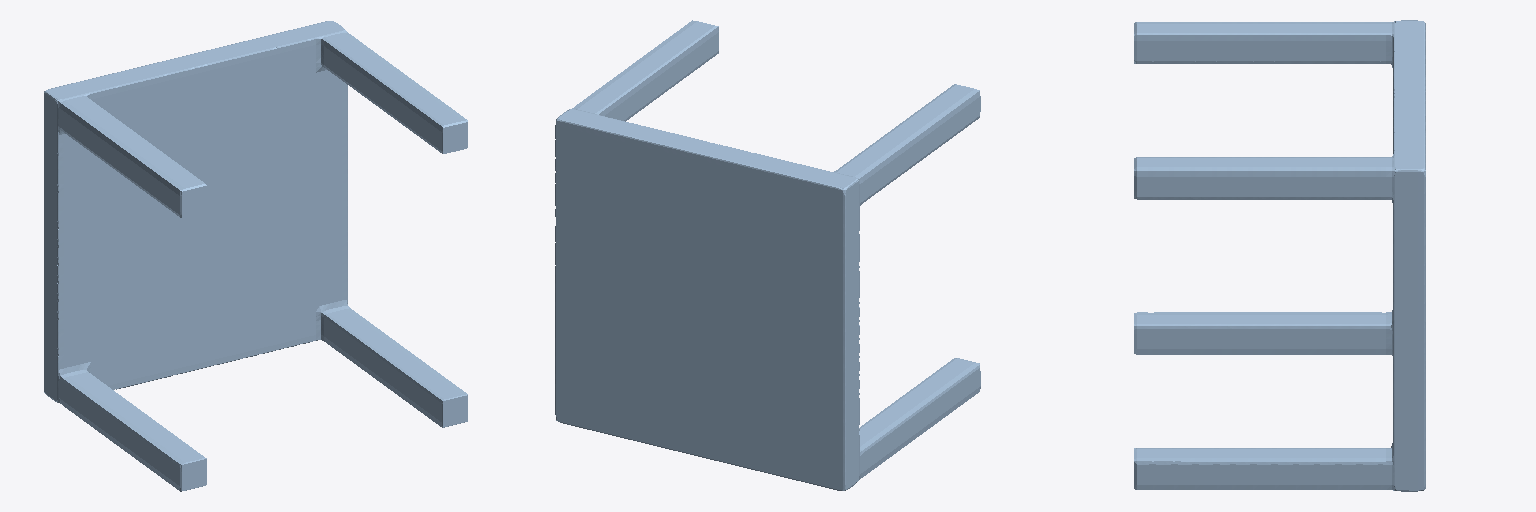
robot.urdf — largetable.urdf:
<?xml version="1.0" ?>
<robot name="largetable.urdf">
  <dynamics damping="0.5" friction="0.9"/>
  <link name="baseLink">
    <contact>
      <lateral_friction value="0.9"/>
      <rolling_friction value="0.5"/>
      <stiffness value="30000"/>
      <damping value="1000"/>
    </contact>
    <visual>
      <origin rpy="0 0 0" xyz="0 0 0"/>
      <geometry>
        <mesh filename="objects/largetable/largetable.obj" scale="1.0 1.0 1.0"/>
      </geometry>
       <material name="mat">
        <color rgba="0.7 0.8 0.9 1"/>
      </material>
    </visual>
    <collision>
      <origin rpy="0 0 0" xyz="0 0 0"/>
      <geometry>
	 	<mesh filename="objects/largetable/largetable.obj" scale="1.0 1.0 1.0"/>
      </geometry>
    </collision>
  </link>
</robot>

--- Facts derived from the render (not from the file) ---
Views: 3 orthographic renders of the robot side by side, from view 1: azimuth 30°, elevation 25°; view 2: azimuth 150°, elevation 25°; view 3: azimuth 270°, elevation 25°.
Robot: largetable.urdf — 1 links, 0 joints (none); root link baseLink; default pose: all joints at 0.
Links seen in each view (by area): view 1: baseLink; view 2: baseLink; view 3: baseLink.
Link boxes in pixels (x1,y1,x2,y2): baseLink: (44, 21, 467, 491); baseLink: (555, 20, 980, 490); baseLink: (1134, 20, 1425, 491).
Size in the robot's own frame: 0.5612 by 0.4602 by 0.5612 metres.
1 mesh visuals loaded from 1 distinct referenced files (1 OBJ).